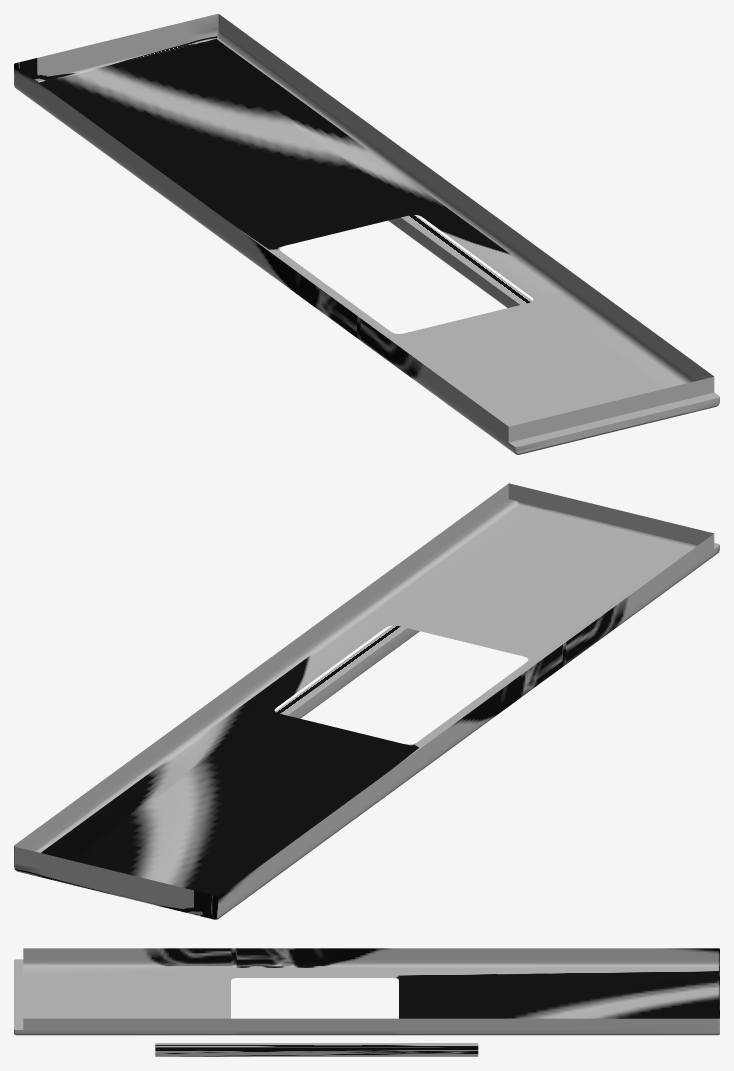
The model's file is Fridge_Door_A_4.obj.
3 renders of one model, top to bottom at view 1: azimuth 30°, elevation 25°; view 2: azimuth 150°, elevation 25°; view 3: azimuth 270°, elevation 25°, orthographic. The views are drawn at different scales.
Bounding box in the file's own units: 0.3901 × 0.1094 × 1.65.
